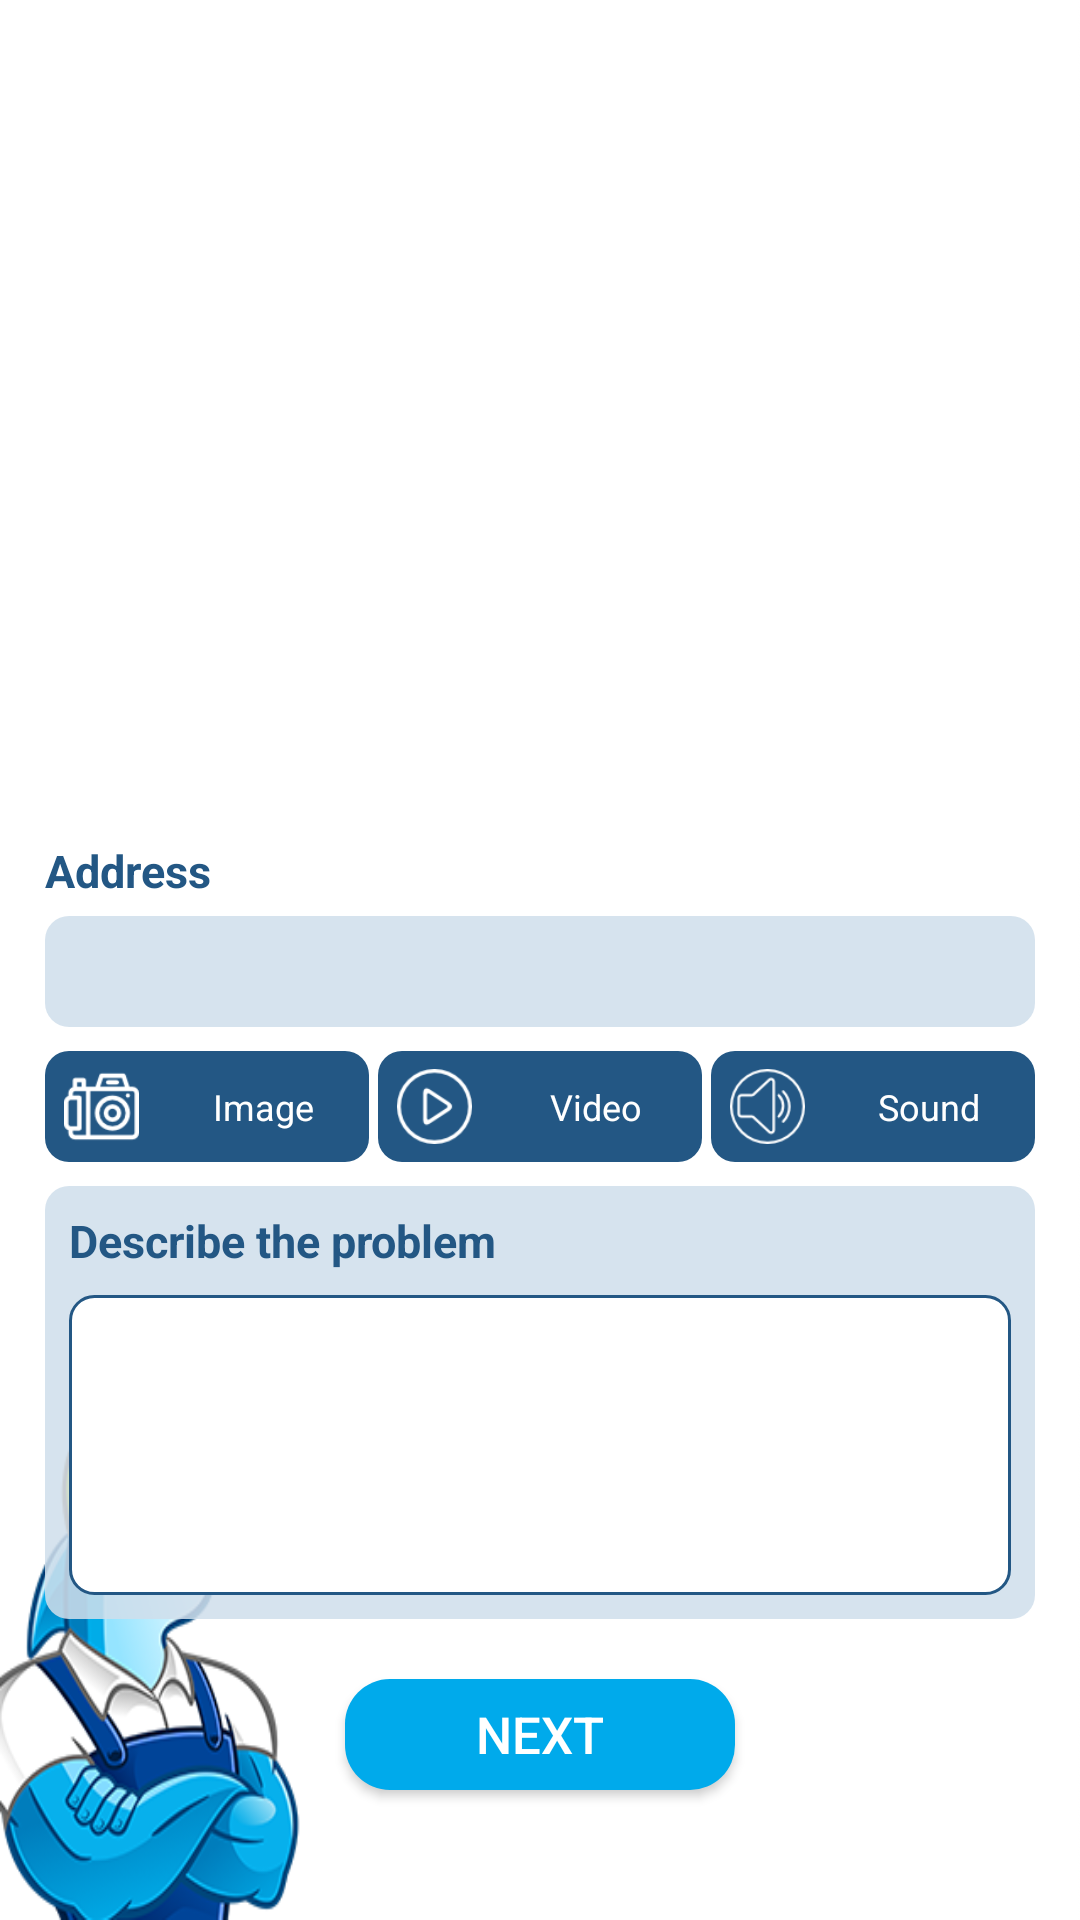

Icon click points for this 1080 × 1920 phone screenshot, format (x,y):
speaker: (767,1106)
